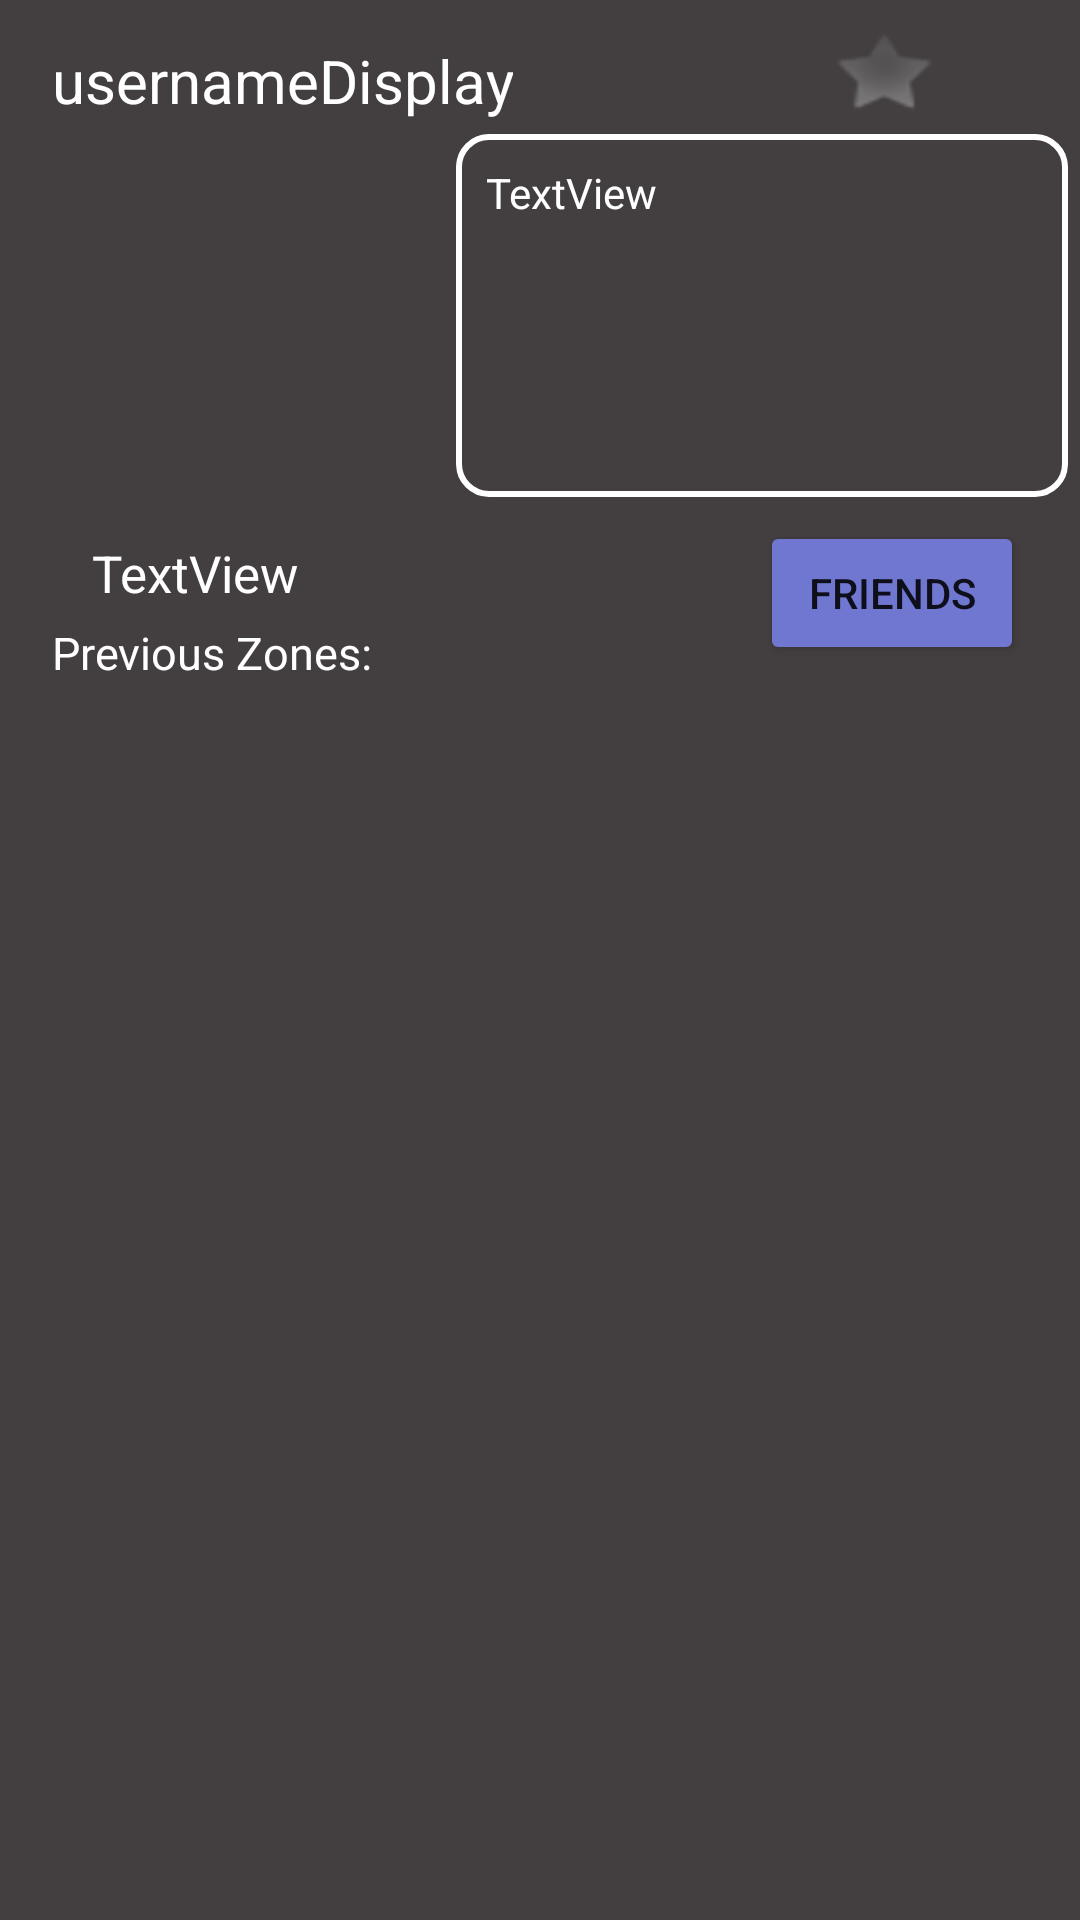

Icon bounding boxes for this 1080px x 1920px phone screenshot, format (x1, y1, x2, y2):
star off: (841, 60, 927, 107)
